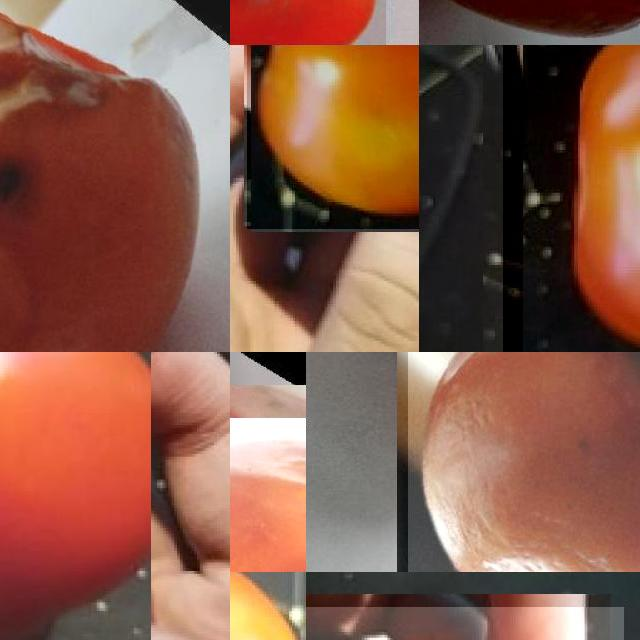0: (0, 352, 151, 640)
Fresh Tomato: (503, 45, 640, 352), (247, 45, 419, 229)
Rotten Tomato: (0, 0, 230, 352), (408, 352, 640, 572), (230, 385, 306, 572)
